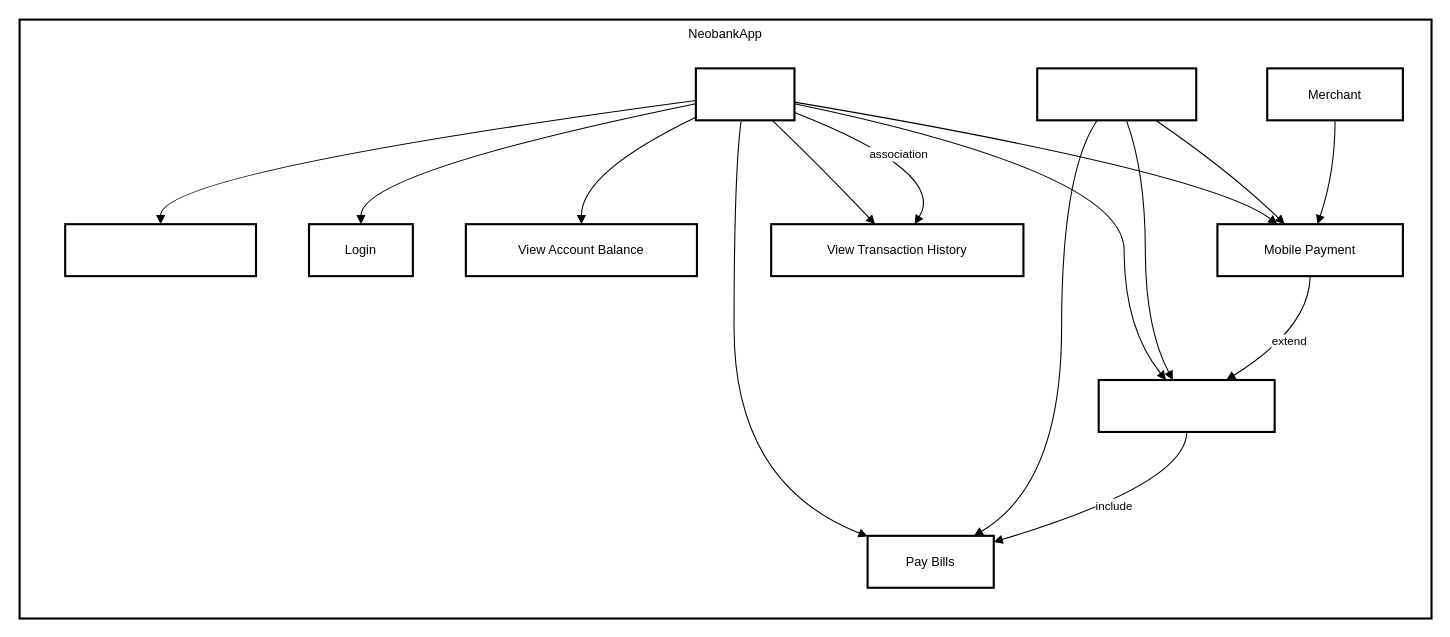
This 1450x637 diagram has some shape labels left out. The shapes that lost their labels are listed below. From the top down, each one's centre as x and y in pixels, then its label:
At (x=744, y=94): "User".
At (x=1116, y=94): "Bank System".
At (x=160, y=250): "Register Account".
At (x=1186, y=405): "Transfer Funds".
